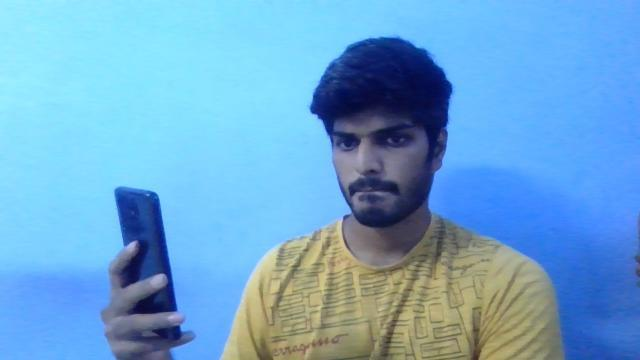PhoneUse: (112, 184, 182, 344)
SafeDriving: (372, 124, 420, 151), (326, 124, 366, 154)
